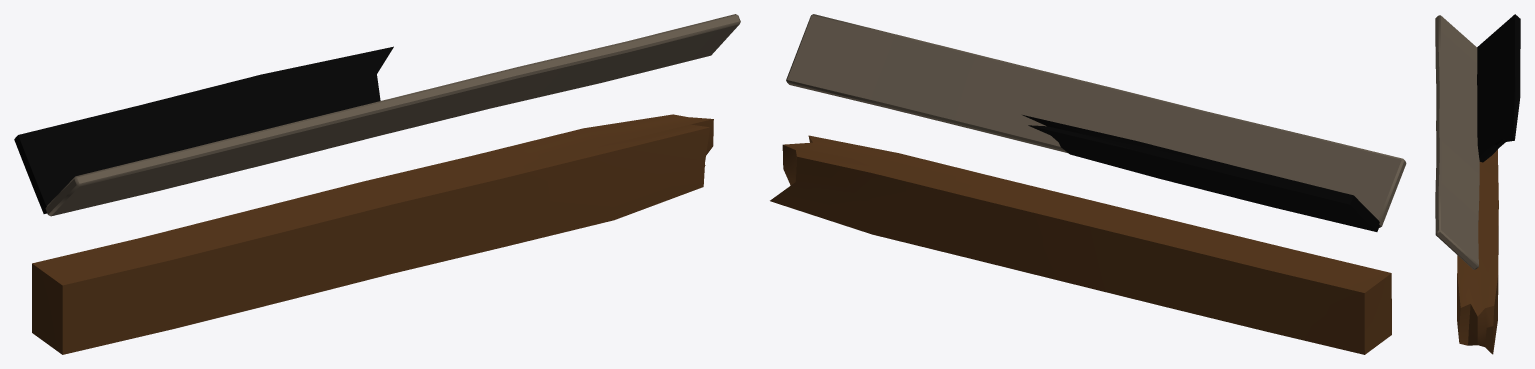
File: dach_first_kaputt.glb
The picture shows the model from 3 angles, left to right: view 1: azimuth 30°, elevation 25°; view 2: azimuth 150°, elevation 25°; view 3: azimuth 270°, elevation 25°; orthographic projection. The views are drawn at different scales.
Parts seen in each view (by area): view 1: dach_first_kaputt; view 2: dach_first_kaputt; view 3: dach_first_kaputt.
Boxes of the visible parts, <box> form: dach_first_kaputt: <box>14,14,740,354</box>; dach_first_kaputt: <box>770,14,1406,354</box>; dach_first_kaputt: <box>1435,14,1520,354</box>.
Bounding box in the file's own units: 2.03 × 0.5499 × 0.3333.
